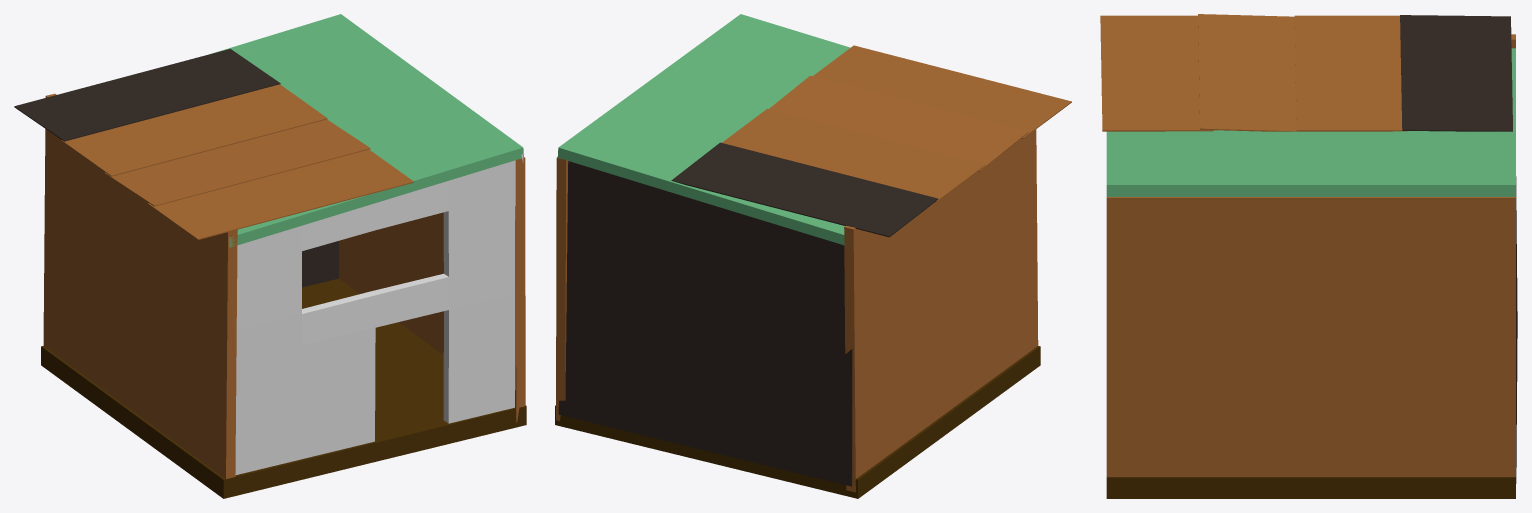
File: house_one.glb
The picture shows the model from 3 angles, left to right: view 1: azimuth 30°, elevation 25°; view 2: azimuth 150°, elevation 25°; view 3: azimuth 270°, elevation 25°; orthographic projection. The views are drawn at different scales.
Parts seen in each view (by area): view 1: Cube.005; view 2: Cube.005; view 3: Cube.005.
Boxes of the visible parts, x1,y1,x2,y2 form: Cube.005: (14, 14, 526, 498); Cube.005: (555, 14, 1071, 498); Cube.005: (1100, 14, 1517, 498).
Bounding box in the file's own units: 6.08 × 4.87 × 5.9.
